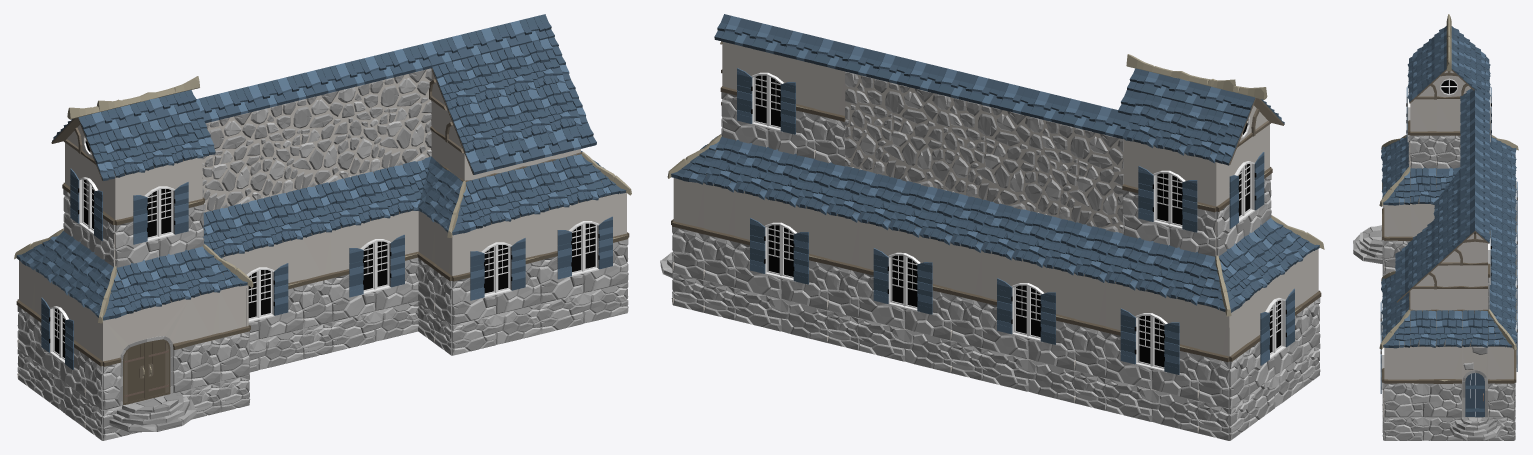
Rendered from House_20.fbx.
3 renders of one model, left to right at view 1: azimuth 30°, elevation 25°; view 2: azimuth 150°, elevation 25°; view 3: azimuth 270°, elevation 25°, orthographic. The views are drawn at different scales.
Visible parts, largest first — view 1: WINDOW_03_60, DOOR_04_4, WINDOW_03_58, WINDOW_03_56, WALL_02_9, WALL_02_10, WINDOW_03_69, WINDOW_03_57, WINDOW_03_67, WALL_02_8, WINDOW_03_68, FOUNDATION_01_5 (+72 smaller); view 2: WINDOW_03_61, WINDOW_03_64, WINDOW_03_66, WINDOW_03_63, WINDOW_03_65, WALL_02_12, WALL_02_11, WALL_02_13, WINDOW_03_62, WINDOW_03_67, WINDOW_03_68, WALL_04_52 (+61 smaller); view 3: WALL_01_14, DOOR_02_2, WALL_04_55, WALL_04_46, WALL_04_56, FOUNDATION_01_7, WALL_04_41, STAIRS_05_4, ROOF_base_116, ROOF_base_115, ROOF_base_114, ROOF_base_67 (+71 smaller).
Boxes of the visible parts, x1=… form: WINDOW_03_60: x1=539, y1=193, x2=628, y2=303; DOOR_04_4: x1=102, y1=299, x2=191, y2=410; WINDOW_03_58: x1=331, y1=210, x2=419, y2=321; WINDOW_03_56: x1=115, y1=158, x2=203, y2=267; WALL_02_9: x1=256, y1=89, x2=344, y2=200; WALL_02_10: x1=343, y1=68, x2=431, y2=178; WINDOW_03_69: x1=451, y1=214, x2=540, y2=319; WINDOW_03_57: x1=222, y1=239, x2=303, y2=341; WINDOW_03_67: x1=33, y1=271, x2=86, y2=397; WALL_02_8: x1=202, y1=111, x2=257, y2=212; WINDOW_03_68: x1=62, y1=143, x2=116, y2=266; FOUNDATION_01_5: x1=452, y1=304, x2=540, y2=355; WINDOW_03_61: x1=733, y1=191, x2=827, y2=310; WINDOW_03_64: x1=981, y1=251, x2=1074, y2=370; WINDOW_03_66: x1=1122, y1=139, x2=1217, y2=256; WINDOW_03_63: x1=857, y1=221, x2=951, y2=340; WINDOW_03_65: x1=1104, y1=281, x2=1198, y2=400; WALL_02_12: x1=937, y1=94, x2=1030, y2=211; WALL_02_11: x1=1030, y1=117, x2=1123, y2=233; WALL_02_13: x1=845, y1=71, x2=938, y2=188; WINDOW_03_62: x1=720, y1=42, x2=814, y2=158; WINDOW_03_67: x1=1247, y1=261, x2=1303, y2=394; WINDOW_03_68: x1=1216, y1=124, x2=1272, y2=255; WALL_04_52: x1=1197, y1=304, x2=1230, y2=408; WALL_01_14: x1=1384, y1=346, x2=1461, y2=417; DOOR_02_2: x1=1462, y1=346, x2=1487, y2=417; WALL_04_55: x1=1410, y1=99, x2=1436, y2=168; WALL_04_46: x1=1488, y1=346, x2=1513, y2=417; WALL_04_56: x1=1436, y1=99, x2=1460, y2=168; FOUNDATION_01_7: x1=1384, y1=417, x2=1461, y2=440; WALL_04_41: x1=1384, y1=204, x2=1410, y2=274; STAIRS_05_4: x1=1449, y1=417, x2=1501, y2=440; ROOF_base_116: x1=1410, y1=310, x2=1436, y2=347; ROOF_base_115: x1=1436, y1=310, x2=1462, y2=347; ROOF_base_114: x1=1462, y1=310, x2=1488, y2=347; ROOF_base_67: x1=1410, y1=167, x2=1436, y2=204.
Size of the model in its own units: 1927 by 986 by 638.
